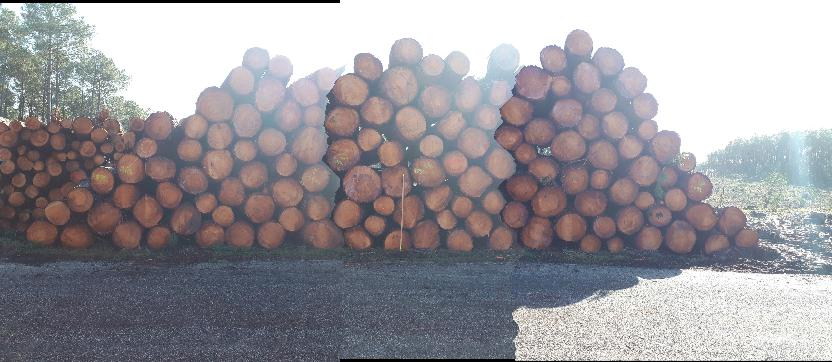etalon: (399, 171, 407, 251)
object: (380, 65, 420, 104), (342, 165, 382, 203), (195, 85, 232, 120), (294, 127, 328, 164), (514, 66, 550, 99), (306, 217, 344, 248), (327, 137, 359, 172), (322, 106, 358, 137), (550, 130, 586, 160), (455, 165, 491, 195), (419, 84, 451, 117), (532, 184, 566, 215), (333, 74, 367, 105), (394, 106, 426, 138), (457, 128, 490, 159), (410, 155, 444, 185), (392, 195, 422, 229), (86, 203, 120, 233), (202, 147, 233, 179), (520, 216, 552, 247), (654, 129, 682, 164), (258, 76, 286, 111), (572, 187, 608, 214), (272, 177, 304, 207), (550, 98, 583, 127), (526, 156, 560, 184), (588, 139, 618, 169), (275, 102, 304, 133), (560, 162, 588, 194), (134, 193, 162, 225), (172, 201, 200, 233), (437, 111, 467, 140), (224, 219, 254, 248), (593, 47, 623, 76), (666, 220, 694, 251), (686, 203, 718, 230), (245, 192, 274, 221), (353, 50, 382, 79), (602, 110, 632, 138), (116, 152, 144, 182), (630, 155, 658, 185), (360, 96, 392, 122), (506, 173, 538, 199), (608, 178, 640, 204), (381, 166, 410, 194), (112, 218, 140, 247), (618, 68, 646, 97), (390, 38, 420, 65), (501, 98, 532, 124), (235, 102, 260, 134), (144, 112, 172, 140), (718, 205, 746, 233), (616, 206, 644, 234), (556, 213, 584, 241), (564, 28, 592, 56), (540, 45, 568, 73), (376, 139, 406, 165), (239, 161, 269, 187), (289, 79, 320, 104), (458, 78, 481, 111), (411, 221, 439, 248), (257, 221, 285, 248), (486, 149, 512, 178), (333, 196, 359, 225), (466, 207, 492, 236), (526, 116, 552, 144), (442, 148, 468, 176), (178, 166, 206, 192), (686, 173, 712, 201), (492, 43, 520, 69), (494, 125, 524, 149), (194, 223, 224, 247), (145, 157, 176, 180), (574, 63, 600, 90), (344, 224, 374, 247), (633, 92, 659, 118), (302, 164, 328, 190), (156, 180, 182, 206), (501, 200, 527, 226), (66, 187, 94, 211), (28, 221, 56, 245), (219, 178, 244, 204), (146, 224, 172, 249), (486, 79, 512, 104), (90, 166, 113, 194), (60, 225, 90, 246), (243, 45, 268, 70), (209, 121, 233, 147), (260, 127, 284, 153), (280, 207, 306, 231), (446, 49, 470, 75), (184, 114, 208, 139), (114, 182, 138, 207), (230, 68, 254, 93), (233, 138, 259, 161), (426, 185, 452, 208), (44, 200, 70, 223), (445, 229, 472, 251), (579, 114, 603, 138), (306, 194, 330, 218), (703, 231, 729, 253), (476, 104, 500, 127), (358, 127, 380, 152), (387, 228, 412, 250), (646, 204, 672, 225), (269, 54, 292, 77), (620, 133, 642, 157), (274, 153, 298, 175), (638, 226, 660, 250), (420, 53, 444, 75), (178, 140, 200, 163), (490, 225, 512, 248), (662, 189, 686, 210), (591, 88, 615, 109), (420, 132, 442, 154), (514, 142, 536, 163), (551, 75, 571, 98), (210, 205, 234, 224), (434, 209, 458, 228), (194, 193, 216, 213), (736, 227, 758, 247), (637, 119, 657, 140), (484, 191, 504, 212), (453, 195, 473, 216), (594, 215, 614, 236), (364, 215, 384, 235), (136, 137, 155, 158), (316, 68, 334, 90), (374, 194, 394, 213), (304, 106, 322, 127), (658, 167, 676, 187), (590, 169, 610, 187), (580, 234, 600, 252), (677, 152, 695, 171), (73, 115, 91, 133), (7, 188, 26, 205), (100, 117, 119, 133), (0, 129, 16, 148), (634, 192, 654, 207), (17, 154, 32, 173), (30, 130, 48, 145), (79, 140, 95, 156), (68, 168, 86, 182), (32, 171, 50, 185), (48, 187, 66, 201), (91, 127, 107, 142), (51, 132, 66, 148), (608, 237, 624, 252), (11, 171, 25, 187), (60, 182, 76, 196), (122, 131, 136, 146), (0, 158, 14, 173), (46, 162, 62, 175), (0, 146, 12, 163), (130, 116, 144, 130), (26, 116, 40, 129), (8, 119, 22, 132), (65, 159, 79, 171), (25, 185, 39, 197), (34, 196, 48, 208), (30, 207, 44, 219), (100, 142, 113, 153), (90, 153, 104, 163), (60, 117, 72, 128), (4, 207, 14, 219), (110, 132, 120, 143), (113, 140, 124, 150), (28, 149, 38, 160), (44, 156, 56, 165), (50, 110, 60, 120), (48, 121, 58, 131), (70, 140, 80, 150), (18, 143, 28, 153), (18, 212, 28, 222), (32, 160, 43, 169), (100, 108, 110, 117), (66, 150, 76, 159), (57, 151, 67, 159), (84, 159, 92, 169), (114, 151, 122, 159), (50, 149, 58, 156)
pile: (25, 25, 761, 253)
